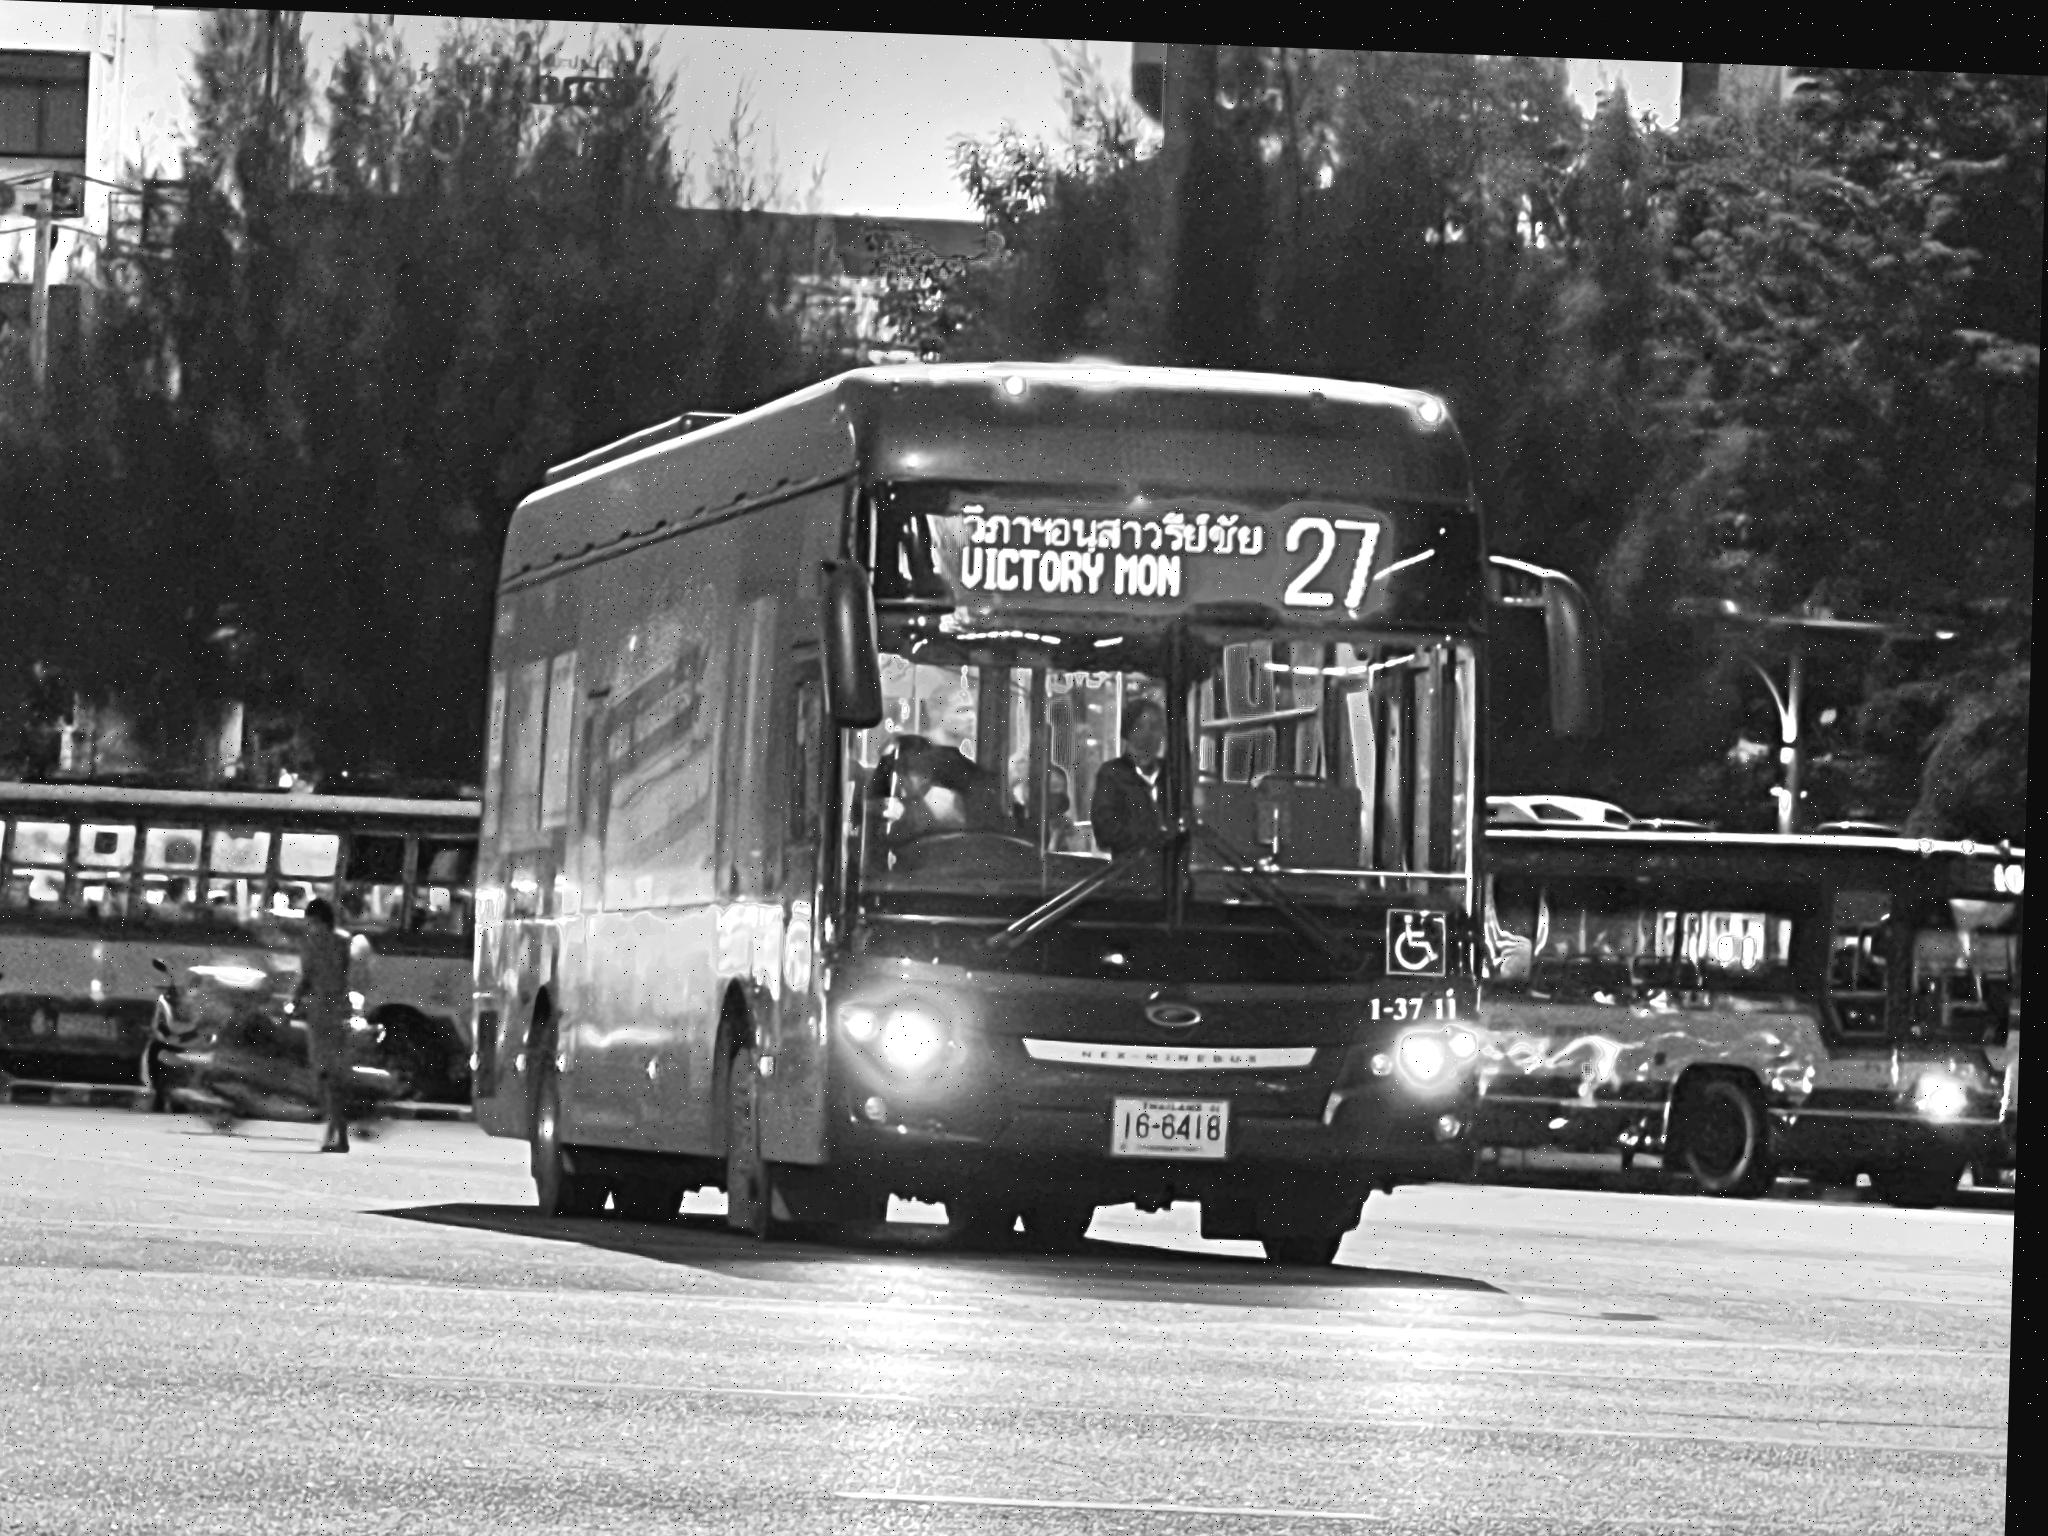BMTA-bus: (1490, 787, 2030, 1194), (0, 774, 482, 1128)
Bus Line Number: (1268, 484, 1405, 616)
Bus Side Number: (1372, 975, 1474, 1018)
Destination Sign: (953, 474, 1266, 603)
TSB-Bus: (471, 352, 1501, 1258)
